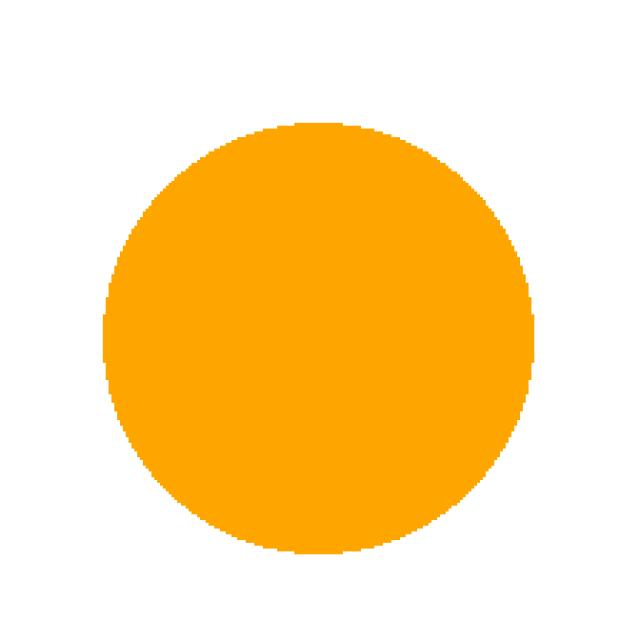Circle: (81, 93, 574, 566)
